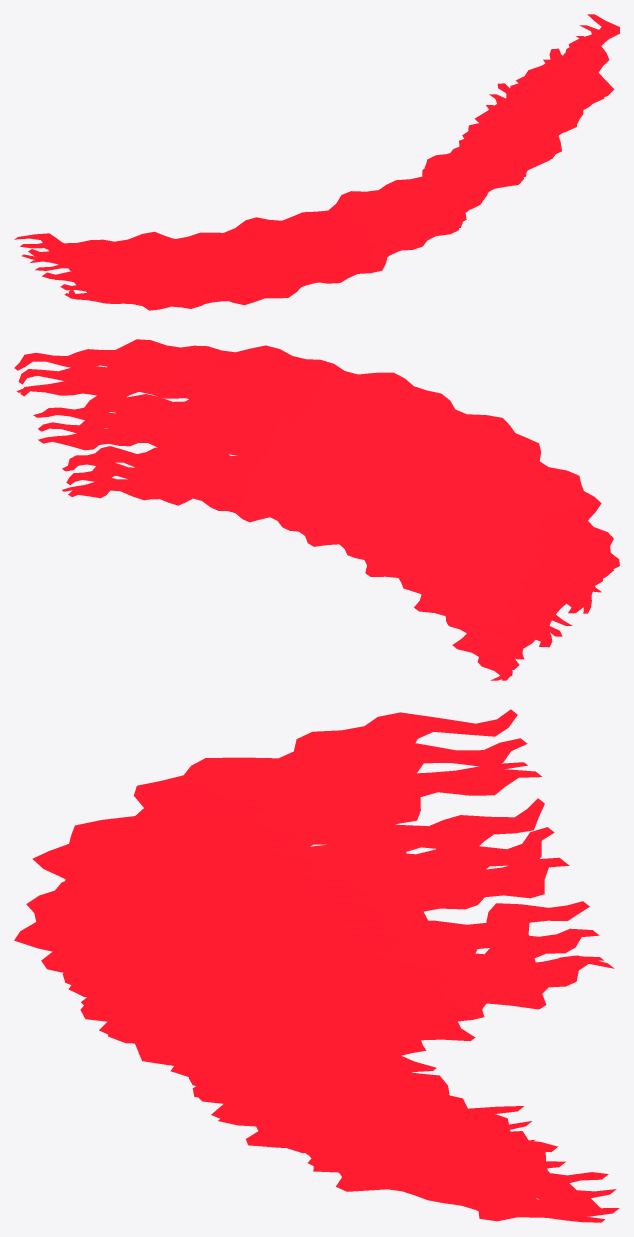
Rendered from revenant_claws.glb.
The picture shows the model from 3 angles, top to bottom: view 1: azimuth 30°, elevation 25°; view 2: azimuth 150°, elevation 25°; view 3: azimuth 270°, elevation 25°; orthographic projection. The views are drawn at different scales.
Parts seen in each view (by area): view 1: BloodWisps, ClawCore; view 2: BloodWisps, ClawCore; view 3: BloodWisps, ClawCore.
Boxes of the visible parts, x1,y1,x2,y2 form: BloodWisps: (14, 14, 619, 310); ClawCore: (22, 36, 586, 307); BloodWisps: (14, 339, 619, 680); ClawCore: (16, 377, 597, 680); BloodWisps: (14, 709, 619, 1221); ClawCore: (145, 762, 604, 1222).
Bounding box in the file's own units: 1.73 × 0.4793 × 0.7744.
